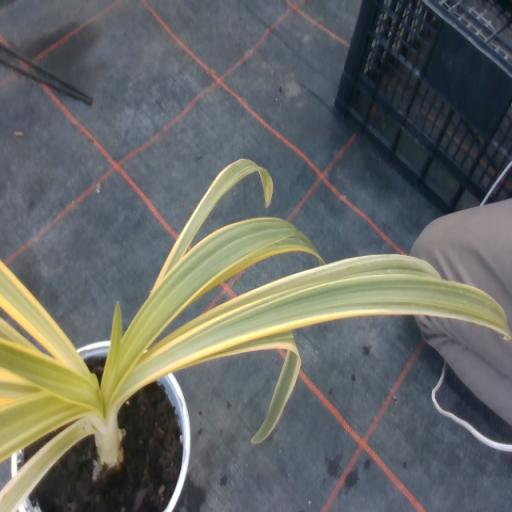Agapanthus-praecox: (114, 274, 509, 401), (157, 255, 440, 349), (123, 218, 321, 349), (151, 159, 272, 292), (198, 332, 300, 443), (0, 261, 88, 375), (0, 419, 92, 511), (0, 341, 98, 409), (2, 396, 85, 460), (102, 303, 122, 384)
